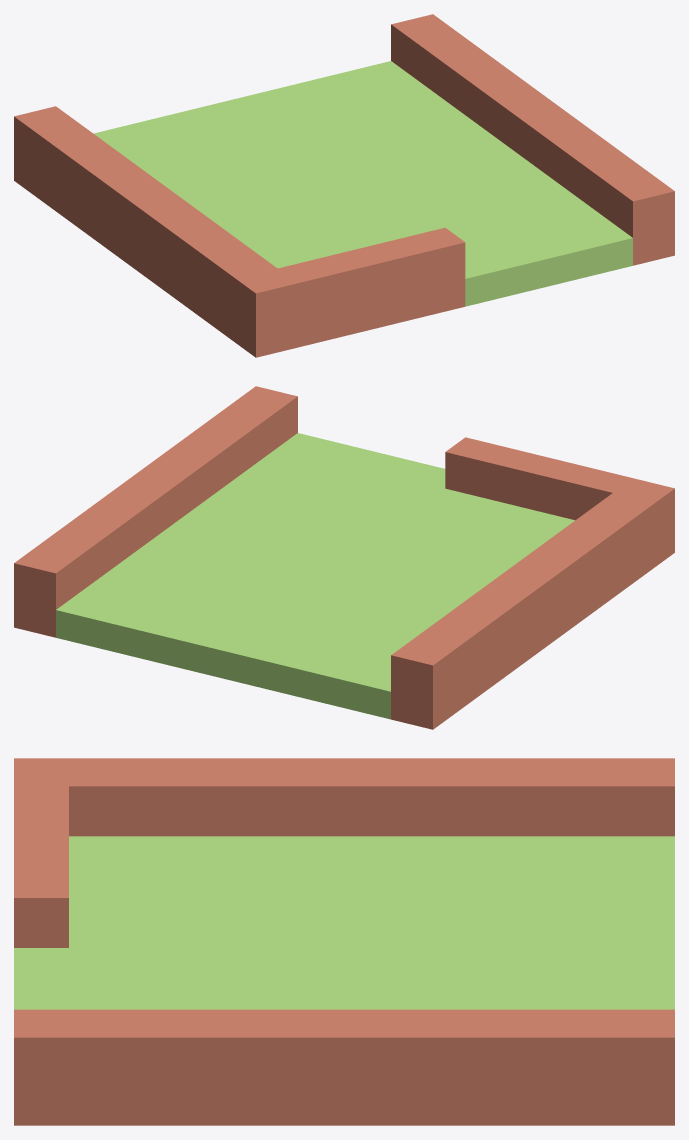
File: Wall_left_01.glb
3 views of the same model, one above another, from view 1: azimuth 30°, elevation 25°; view 2: azimuth 150°, elevation 25°; view 3: azimuth 270°, elevation 25° (orthographic). The views are drawn at different scales.
Visible parts, largest first — view 1: Mesh1 Wall_left Model; view 2: Mesh1 Wall_left Model; view 3: Mesh1 Wall_left Model.
Part boxes in pixels (box(x1,y1,x2,y2)): Mesh1 Wall_left Model: box(14, 14, 674, 357); Mesh1 Wall_left Model: box(14, 386, 674, 729); Mesh1 Wall_left Model: box(14, 758, 674, 1125).
Size of the model in its own units: 3 by 0.44 by 3.
